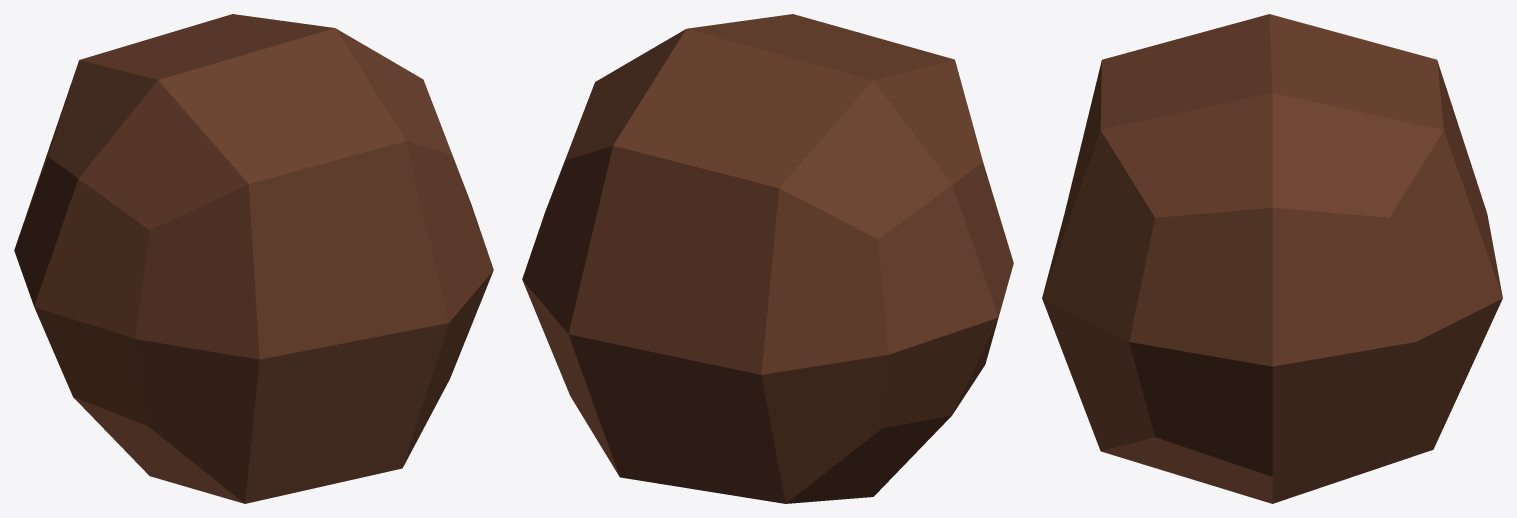
The model's file is coconut.fbx.
3 views of the same model, side by side, from view 1: azimuth 30°, elevation 25°; view 2: azimuth 150°, elevation 25°; view 3: azimuth 270°, elevation 25° (orthographic). The views are drawn at different scales.
Visible parts, largest first — view 1: coconut; view 2: coconut; view 3: coconut.
Part boxes in pixels (bbox=[...]): coconut: bbox=[14, 14, 493, 503]; coconut: bbox=[522, 14, 1013, 503]; coconut: bbox=[1042, 14, 1502, 503].
Bounding box in the file's own units: 11.61 × 10.6 × 10.72.
Materials: 1 (1 with a texture image).
